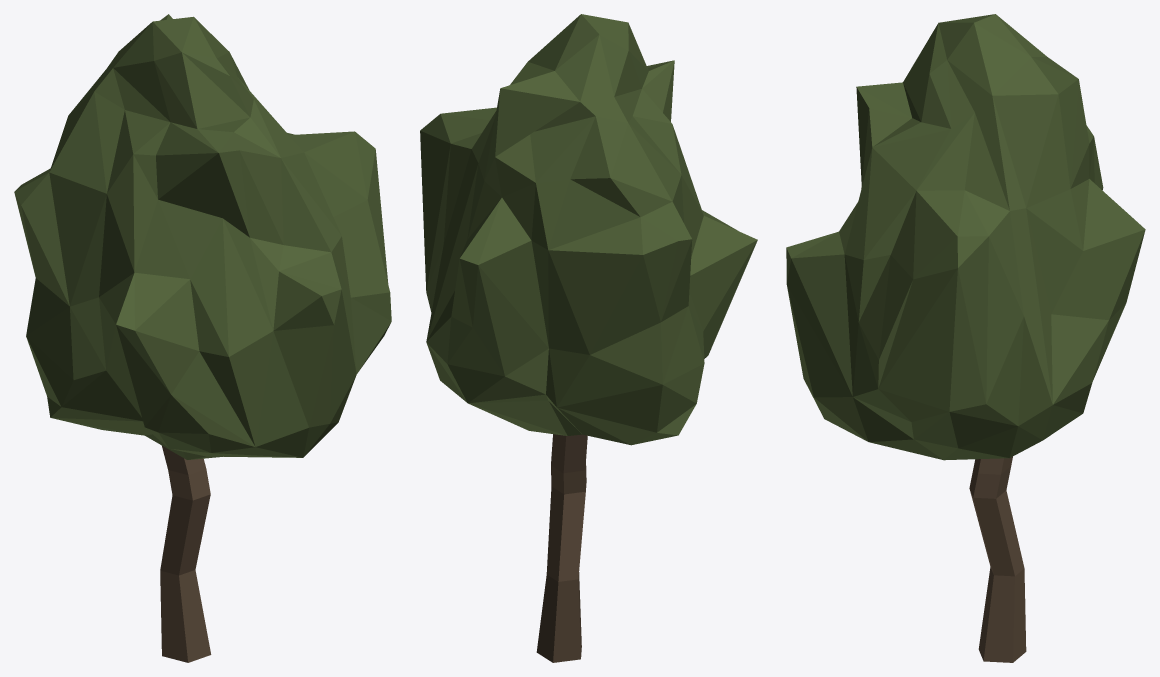
Rendered from Tree_40.gltf.
The picture shows the model from 3 angles, left to right: view 1: azimuth 30°, elevation 25°; view 2: azimuth 150°, elevation 25°; view 3: azimuth 270°, elevation 25°; orthographic projection. The views are drawn at different scales.
Visible parts, largest first — view 1: Tree_40; view 2: Tree_40; view 3: Tree_40.
Boxes of the visible parts, box(x1,y1,x2,y2) form: Tree_40: box(14, 14, 391, 662); Tree_40: box(420, 14, 757, 662); Tree_40: box(786, 14, 1145, 662).
Size of the model in its own units: 0.2304 by 0.4495 by 0.233.
Materials: 1 (1 with a texture image).
